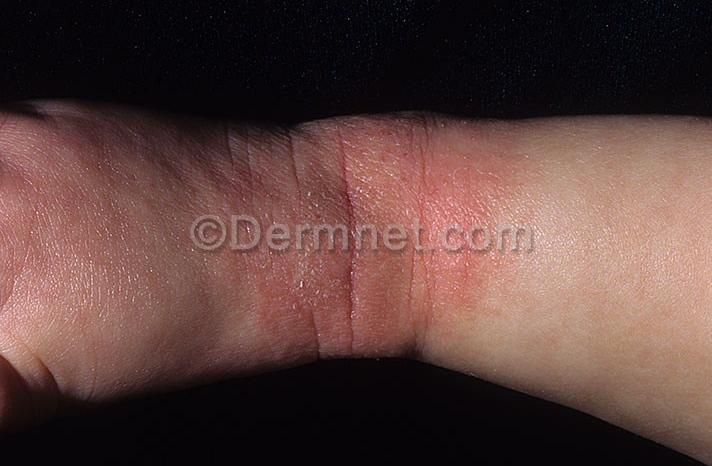eritema 1: (218, 110, 519, 366)
